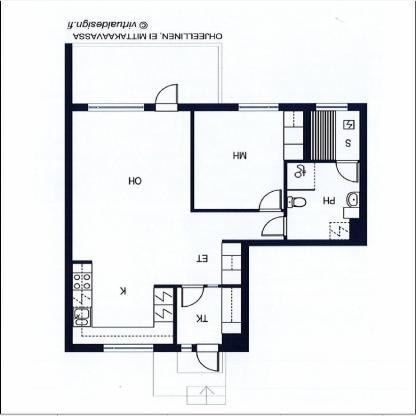door: (195, 344, 223, 375), (154, 82, 180, 111), (179, 284, 204, 308), (258, 190, 282, 214), (262, 217, 288, 238), (336, 161, 360, 183)
window: (104, 343, 155, 352), (88, 104, 145, 112), (316, 102, 346, 110), (240, 104, 276, 110), (180, 345, 190, 351)
zone: (71, 111, 287, 346), (193, 112, 307, 209), (71, 46, 219, 104), (287, 163, 361, 241), (176, 288, 244, 344), (309, 110, 359, 160)
